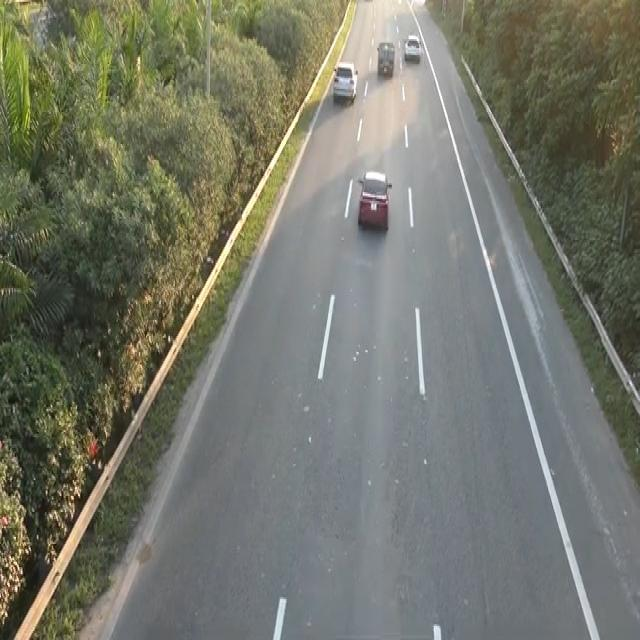bus: (355, 166, 394, 238), (331, 59, 358, 103), (403, 32, 421, 60)
minivan: (376, 39, 395, 75)
